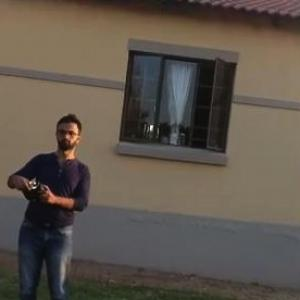follow: (0, 105, 97, 299)
